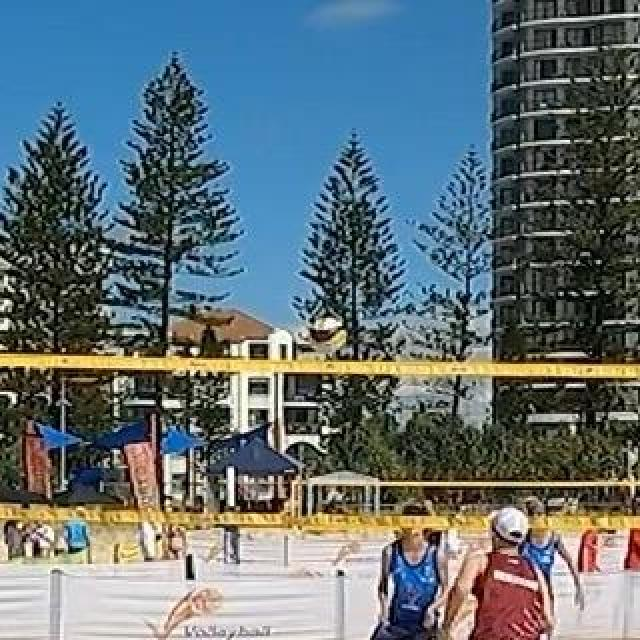volleyball: (308, 315, 348, 355)
